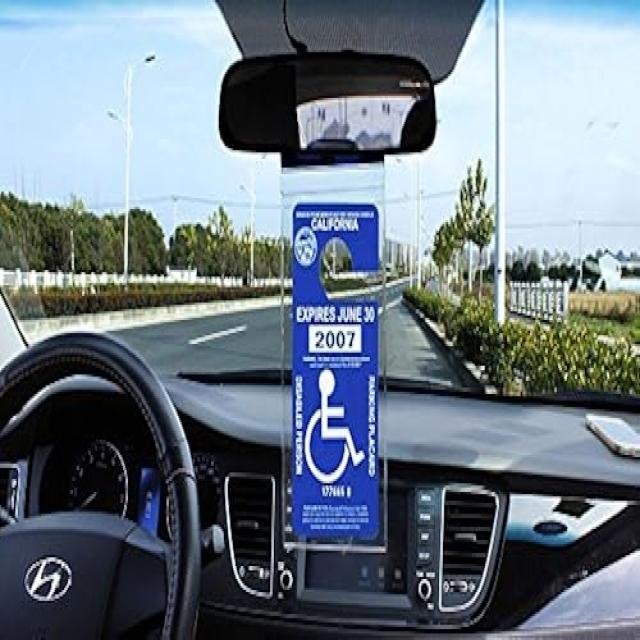car-handicap-placard: (298, 367, 368, 492)
